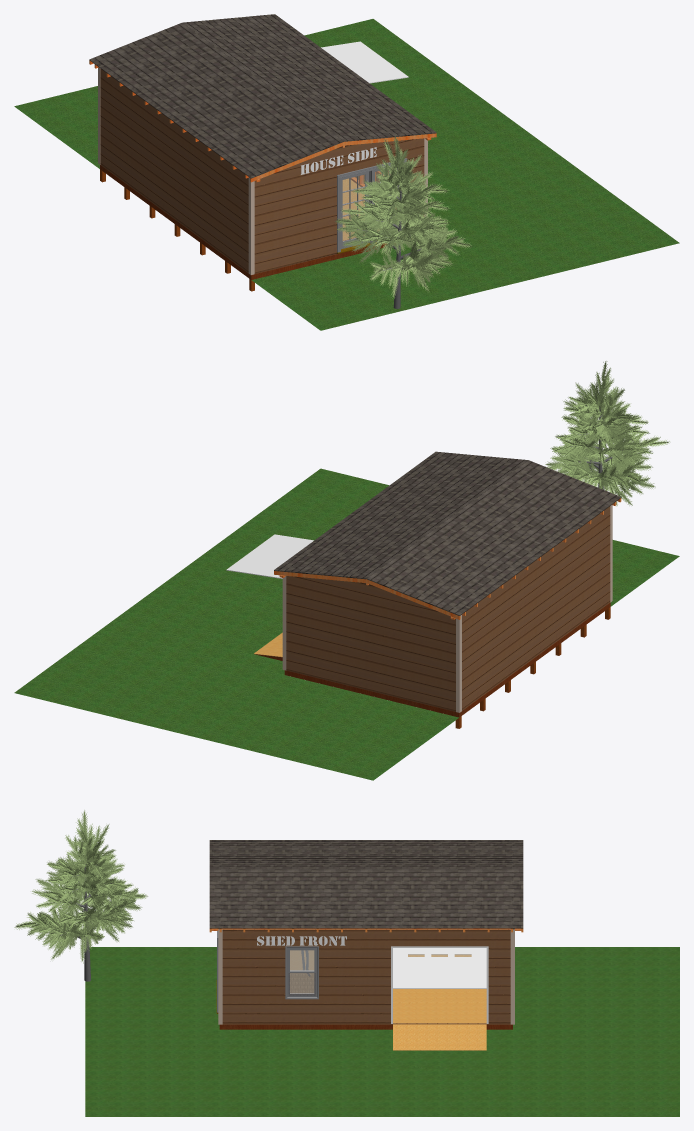
Rendered from sketchup-3dw-mariano-16x24-gable-garage-shed.glb.
3 views of the same model, one above another, from view 1: azimuth 30°, elevation 25°; view 2: azimuth 150°, elevation 25°; view 3: azimuth 270°, elevation 25° (orthographic). The views are drawn at different scales.
Parts seen in each view (by area): view 1: object 2325, roof (×2), wall siding, front wall siding 2, 3#1, Group#14, floor frame, object 2329, House side; view 2: object 2325, roof (×2), front wall siding 2#1, wall siding, 3#1, floor frame; view 3: object 2325, roof (×2), wall siding#1, 3#1, Floor panel (×3), 4x8x3/8"#7, Group#9, Outer floor frame front/back, Shed Front, object 2326, object 2327.
Part boxes in pixels (x1,y1,x2,y2): object 2325: (14,19,679,330); roof (×2): (89,14,436,178); wall siding: (100,68,248,273); front wall siding 2: (254,138,424,273); 3#1: (321,41,408,83); Group#14: (340,170,403,249); floor frame: (250,243,387,279); object 2329: (248,177,254,274); House side: (301,147,376,174); object 2325: (14,468,679,780); roof (×2): (274,451,621,615); front wall siding 2#1: (286,576,455,711); wall siding: (462,506,610,710); 3#1: (226,534,313,578); floor frame: (284,670,460,717); object 2325: (85,947,679,1116); roof (×2): (209,840,523,928); wall siding#1: (219,929,510,1024); 3#1: (393,948,486,988); Floor panel (×3): (393,989,486,1023); 4x8x3/8"#7: (393,1024,486,1050); Group#9: (285,946,318,999); Outer floor frame front/back: (222,1024,366,1029); Shed Front: (257,936,346,945); object 2326: (218,929,222,1024); object 2327: (510,929,514,1024).
Size of the model in its own units: 10.19 by 5.06 by 16.62.
Materials: 47 (24 with a texture image).
